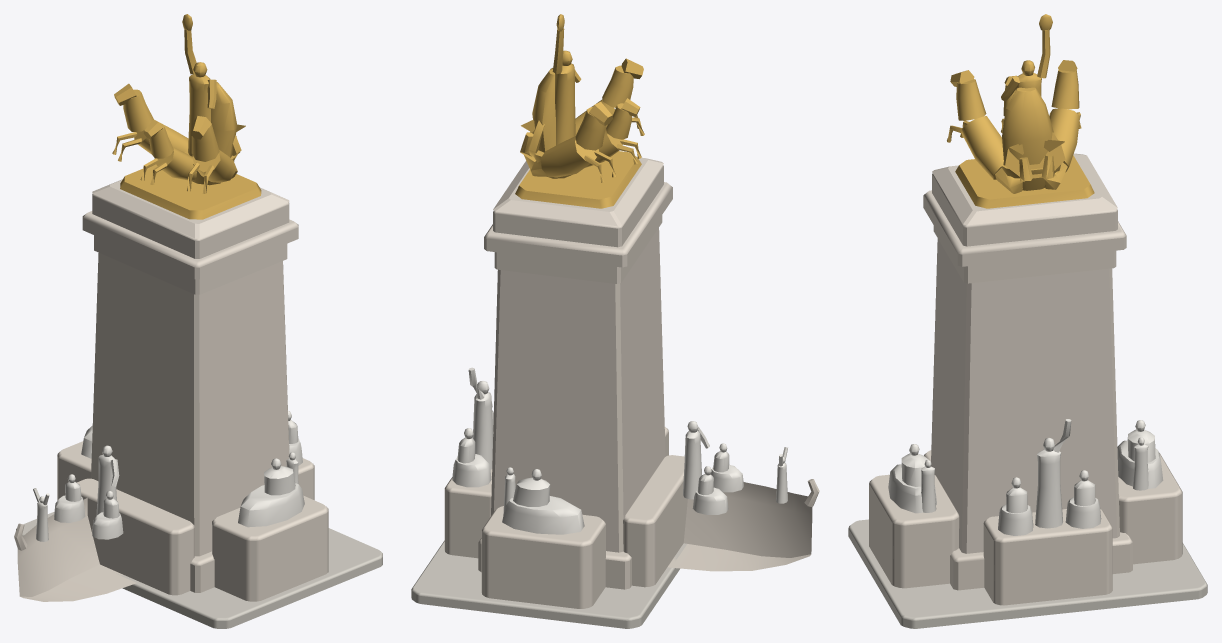
The model's file is detail.glb.
The picture shows the model from 3 angles, left to right: view 1: azimuth 30°, elevation 25°; view 2: azimuth 150°, elevation 25°; view 3: azimuth 270°, elevation 25°; orthographic projection. The views are drawn at different scales.
Visible parts, largest first — view 1: uss-maine-national-monument; view 2: uss-maine-national-monument; view 3: uss-maine-national-monument.
Boxes of the visible parts, bbox=[...] form: uss-maine-national-monument: bbox=[14, 14, 382, 628]; uss-maine-national-monument: bbox=[411, 14, 819, 628]; uss-maine-national-monument: bbox=[848, 14, 1207, 628].
Size of the model in its own units: 12.29 by 18.2 by 10.79.
